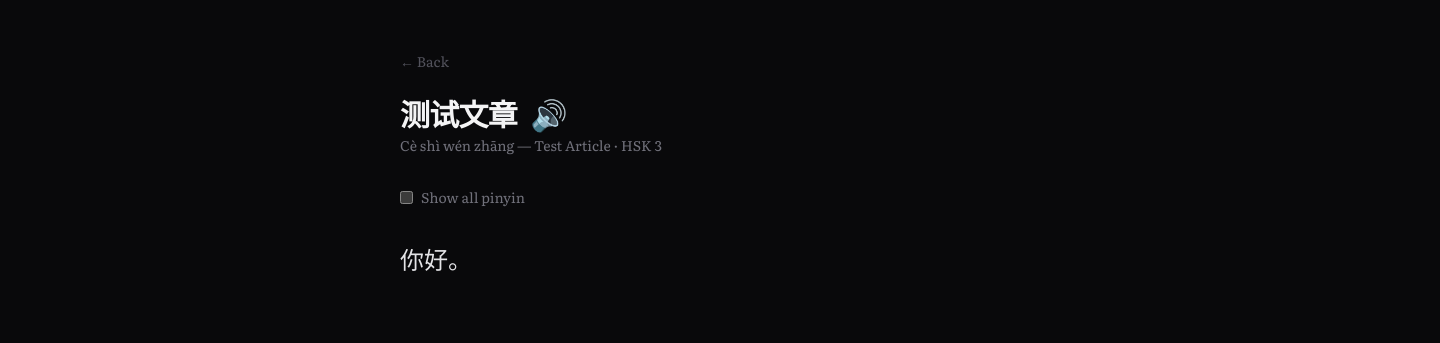
Reader › dismisses tooltip on click outside article container
Step 1. Click the text "你" → (412, 258), box [400,241,424,276]
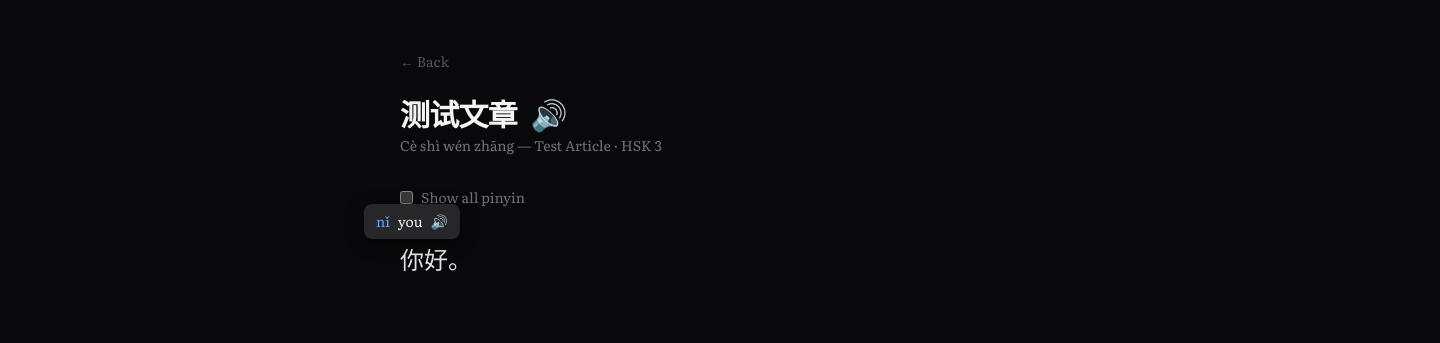
Check: the text "you" is shown, box [398,211,423,231]
Click on document body (outside the article container)
Step 2. Click the element that starts with "← Back" → (720, 163), box [0,0,1439,326]
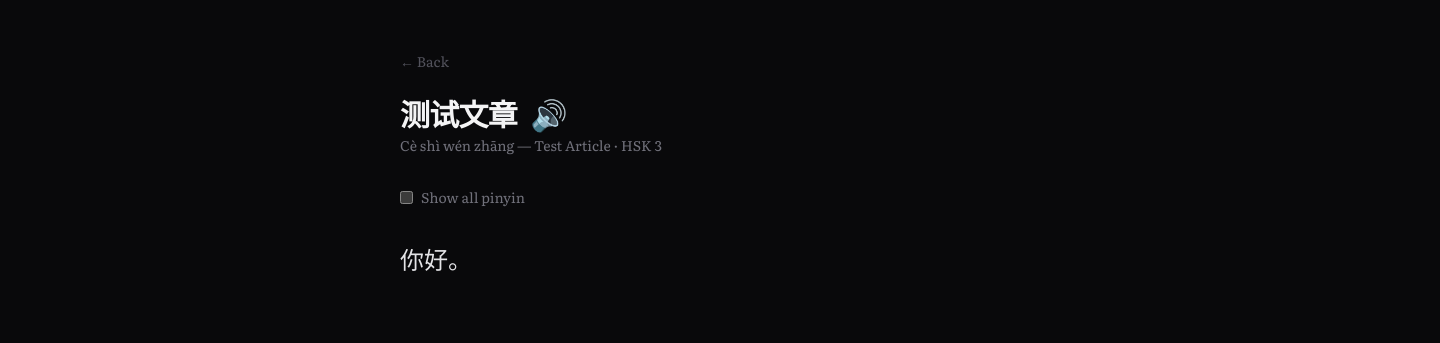
Check: the text "you" is gone
